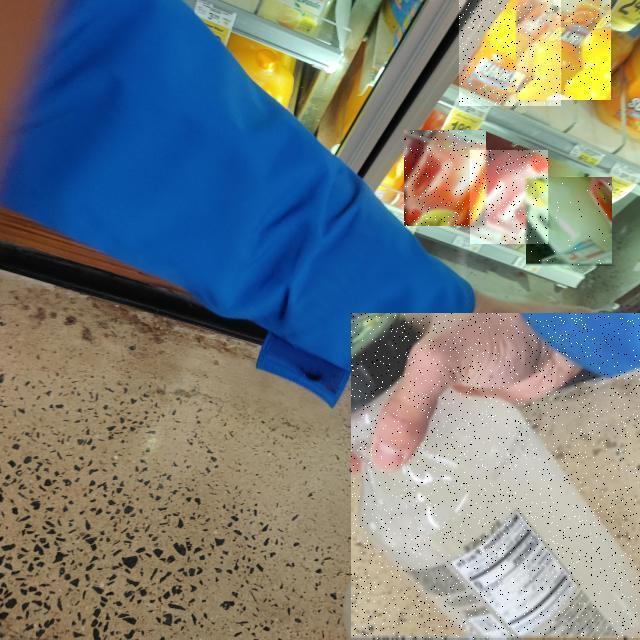Juice: (351, 314, 640, 640), (459, 0, 561, 106), (516, 0, 611, 100), (404, 130, 486, 226), (526, 178, 612, 268), (471, 150, 549, 244)
